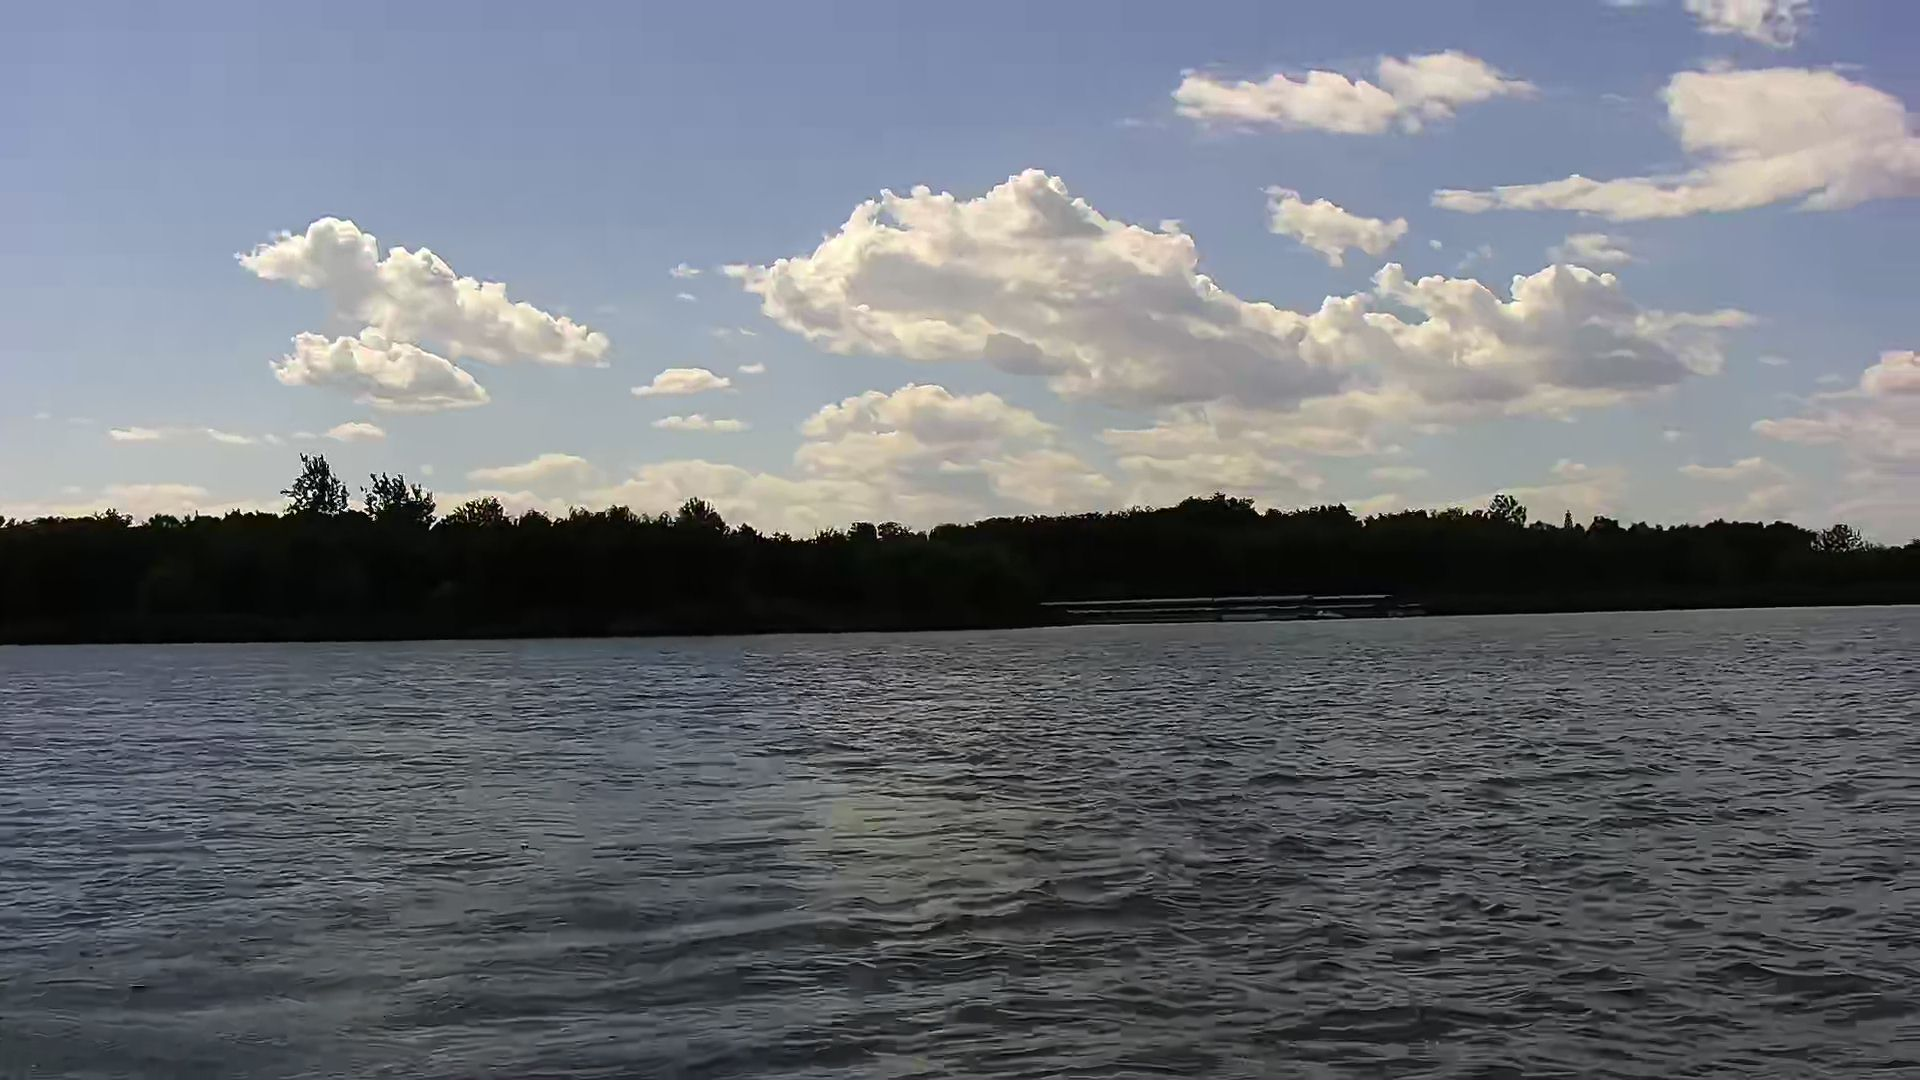bridge: (1047, 597, 1393, 622)
